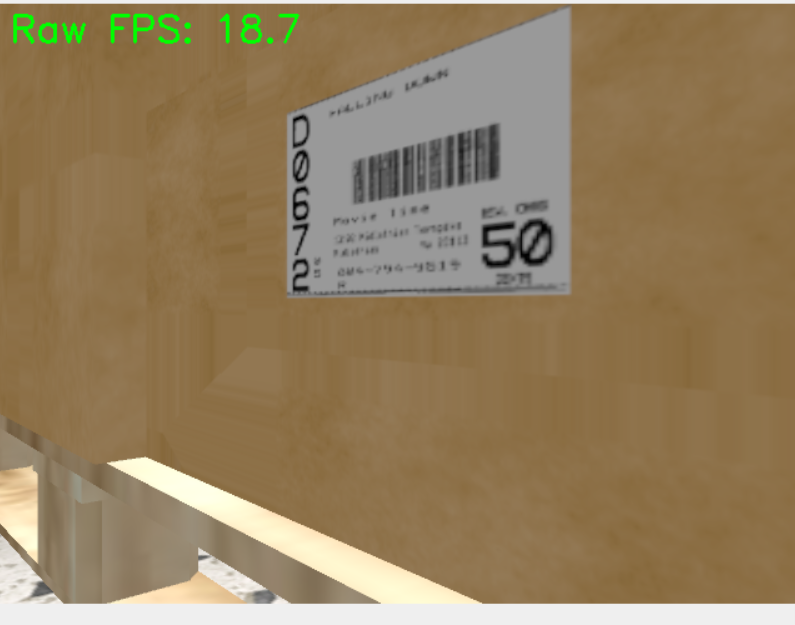barcode: (285, 7, 572, 296)
